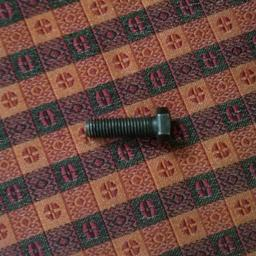screwtype2black: (72, 102, 172, 152)
